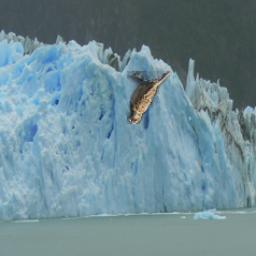Sparrow: (127, 71, 170, 124)
